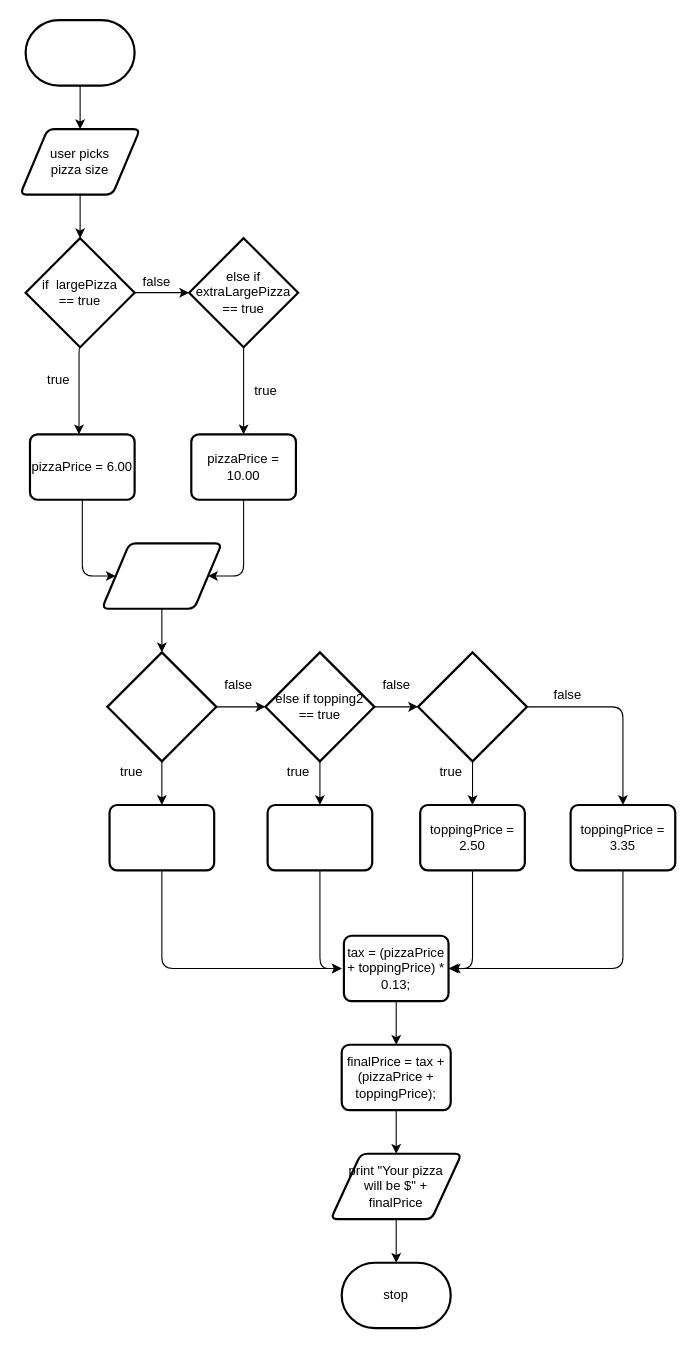
This 694x1347 diagram has some shape labels left out. The shapes that lost their labels are listed below. From the top down, each one's centre as x and y in pixels, then its label:
(x=79, y=52): start
(x=161, y=575): user chooses amount of toppings
(x=161, y=706): if topping1 == true
(x=472, y=706): else if topping 3 == true
(x=161, y=837): toppingPrice = 1.00
(x=319, y=837): toppingPrice = 1.75
